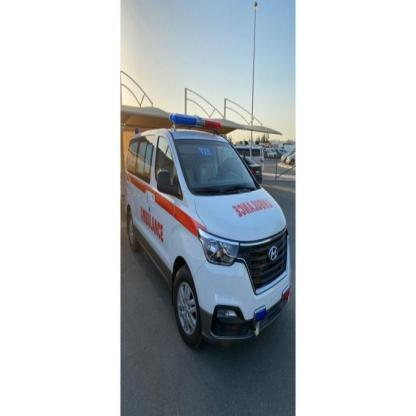Ambulance - v1 Ambulance last generate: (122, 110, 293, 341)
